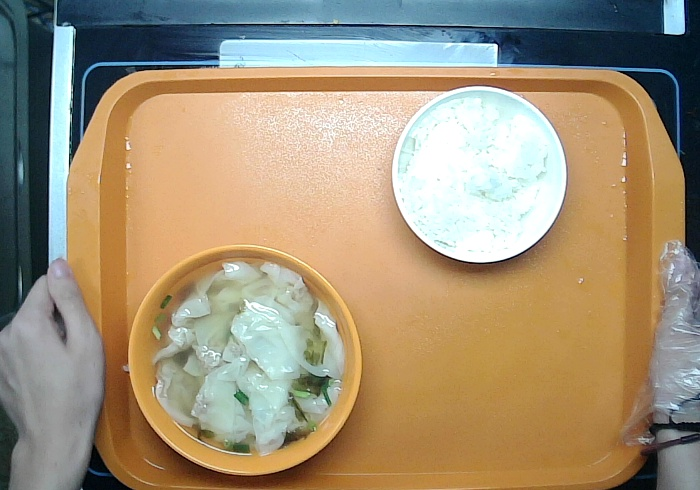NLDX-Fan_Wan: (387, 79, 574, 265)
NLDX-Hun_Tun_Wan: (117, 228, 372, 490)
